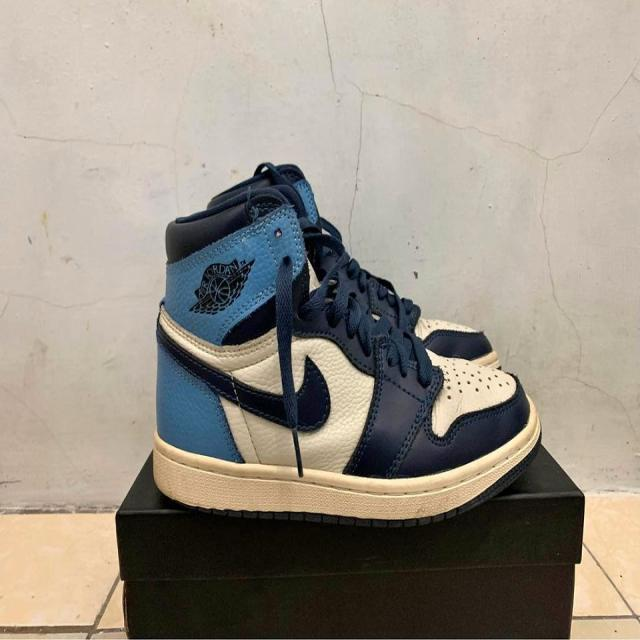nike original jordan 1: (154, 186, 547, 534), (207, 163, 503, 374)
